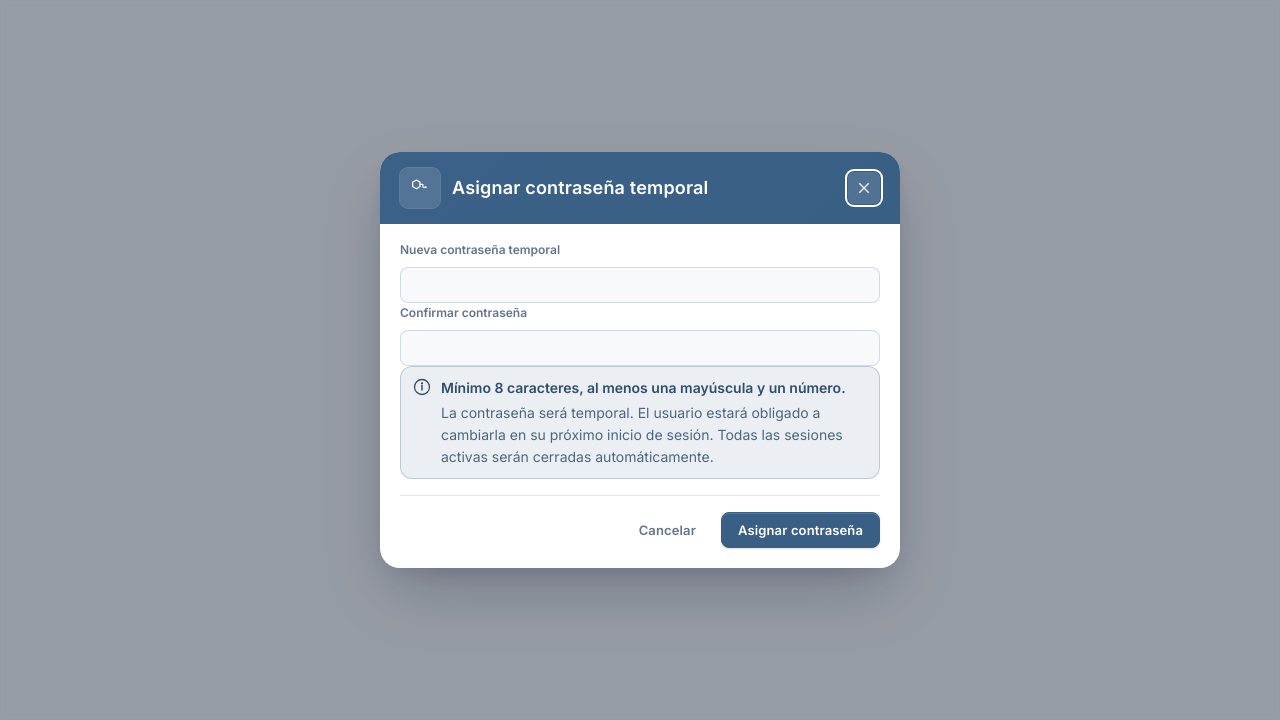
Test: AssignTemporaryPasswordModal — envío › error genérico (no 422) muestra el mensaje estándar del API, sin cerrar el modal
In the password field labelled "Nueva contraseña temporal": (640, 285) top-left (400, 267), bottom-right (880, 303), type "Temp0ral!"
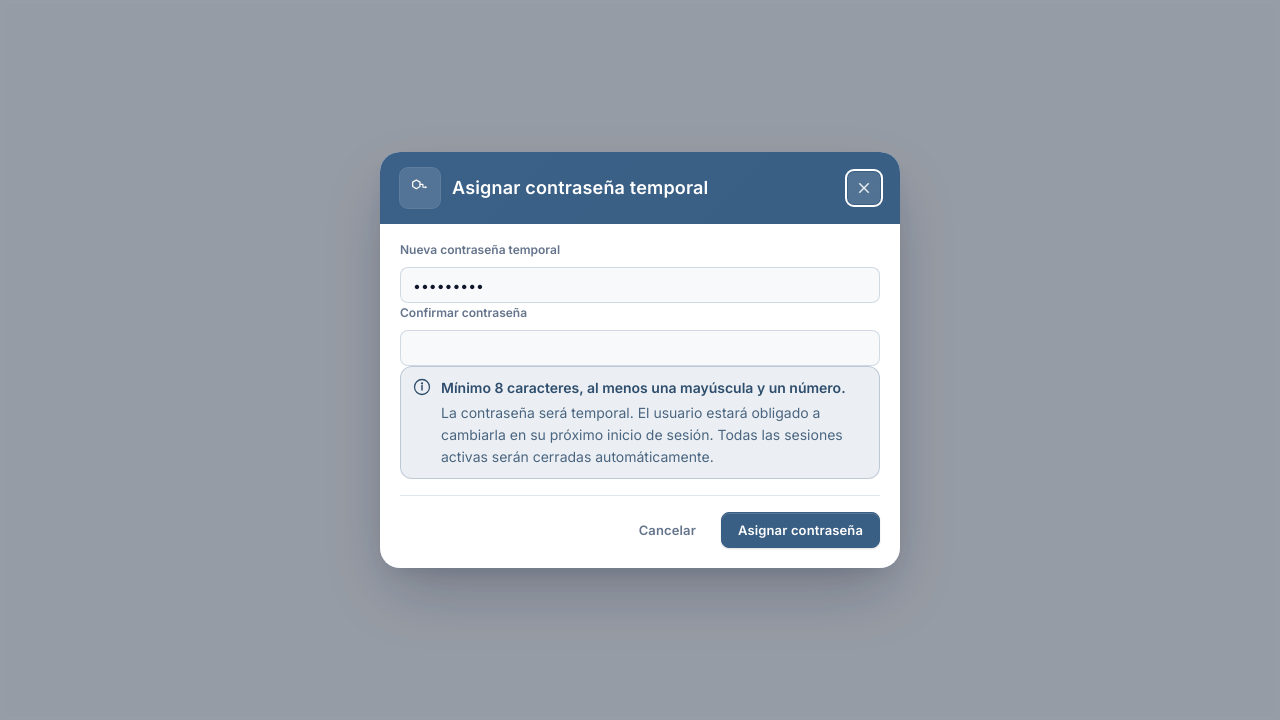
In the password field labelled "Confirmar contraseña": (640, 348) top-left (400, 330), bottom-right (880, 366), type "Temp0ral!"
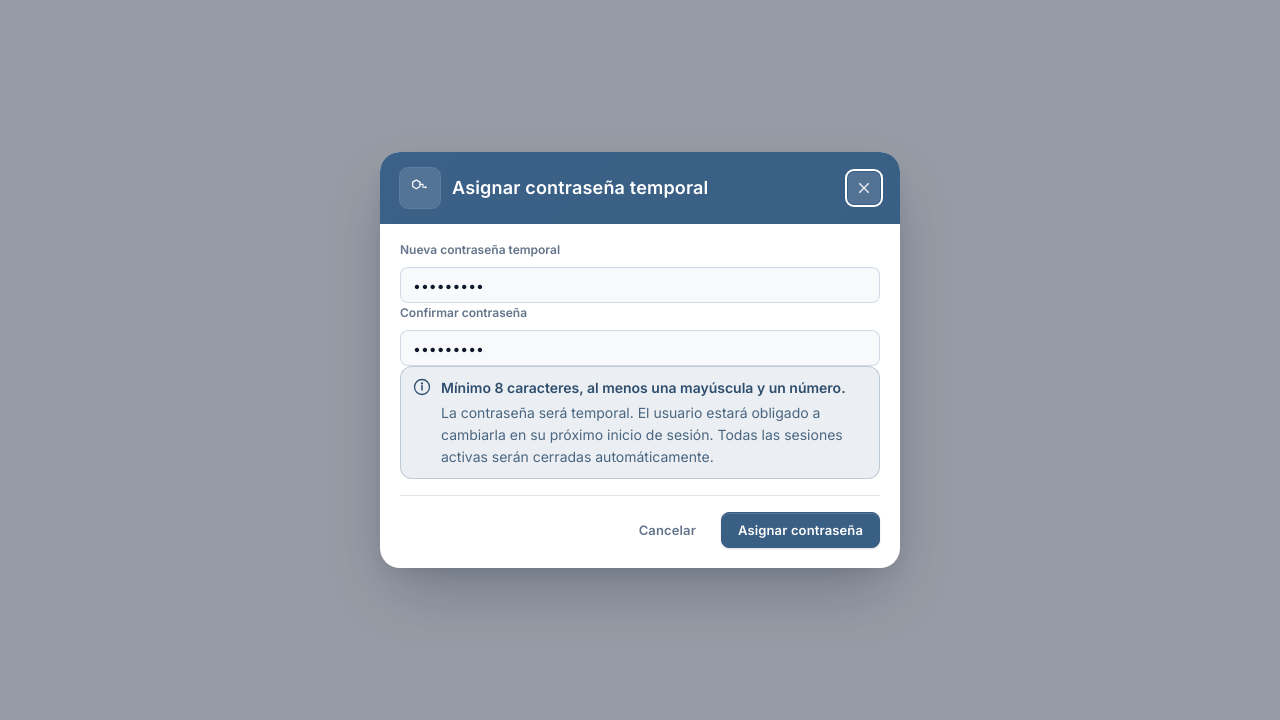
Click the button "Asignar contraseña": (800, 530) top-left (721, 512), bottom-right (880, 548)
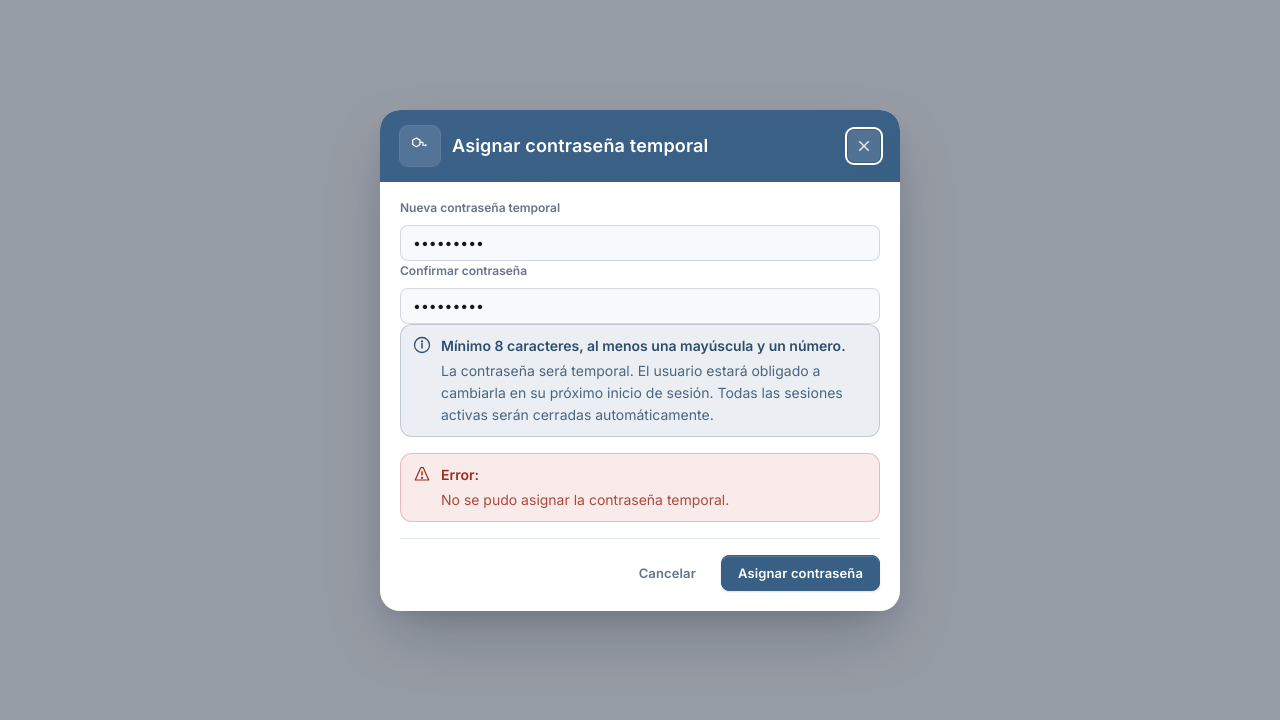
Check: the text "No se pudo asignar la contraseña temporal." is shown, box top-left (441, 488), bottom-right (729, 510)
